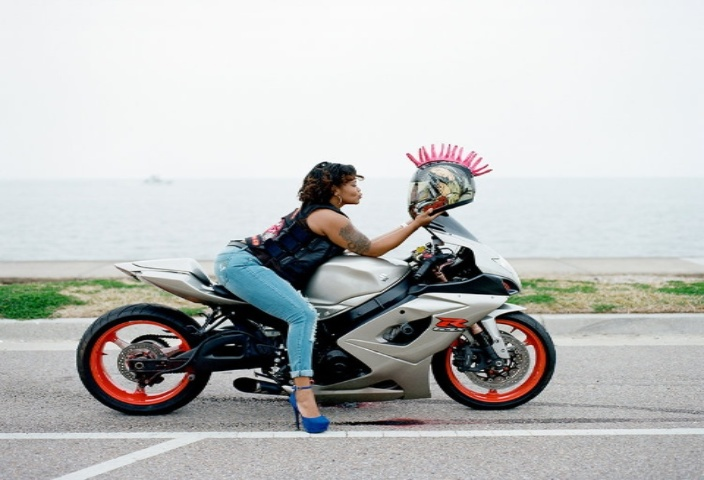motorcycle: (73, 130, 572, 446)
